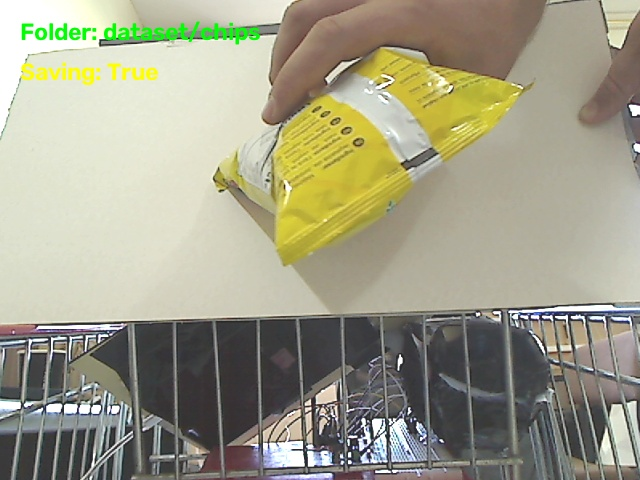chips: (214, 48, 525, 264)
